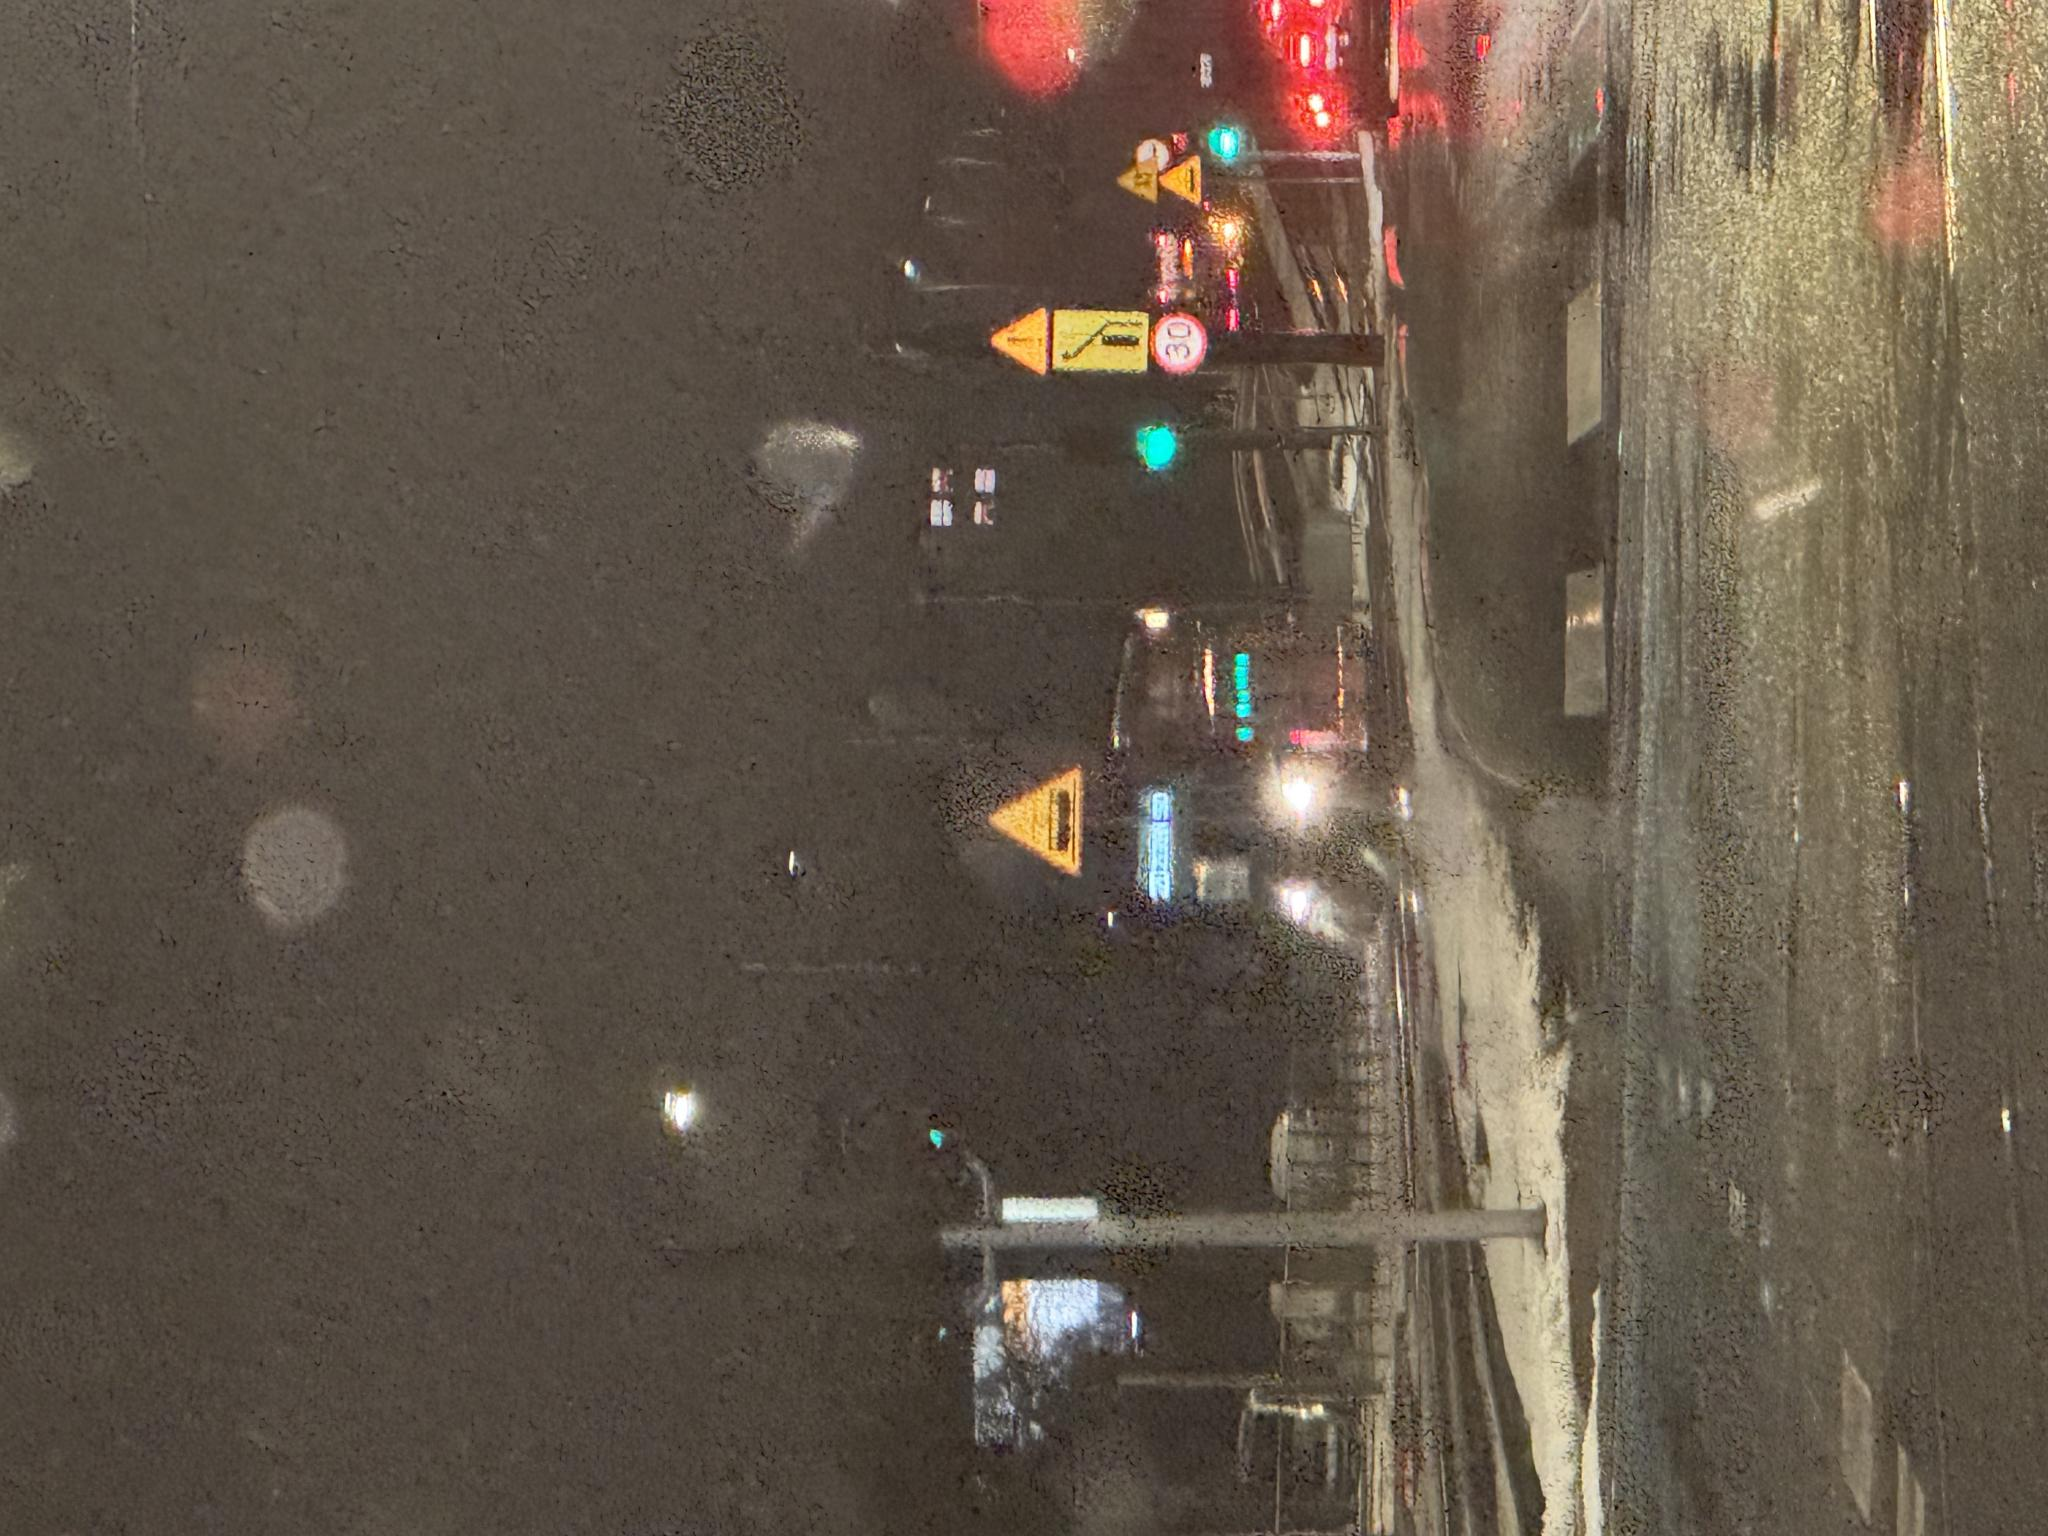other: (1164, 1052, 1224, 1149)
prohibitory: (1163, 1149, 1226, 1208)
warning: (655, 984, 771, 1084), (1161, 989, 1229, 1049), (1332, 1160, 1380, 1204), (1332, 1117, 1380, 1158)
